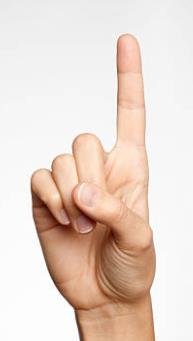up: (28, 30, 155, 309)
